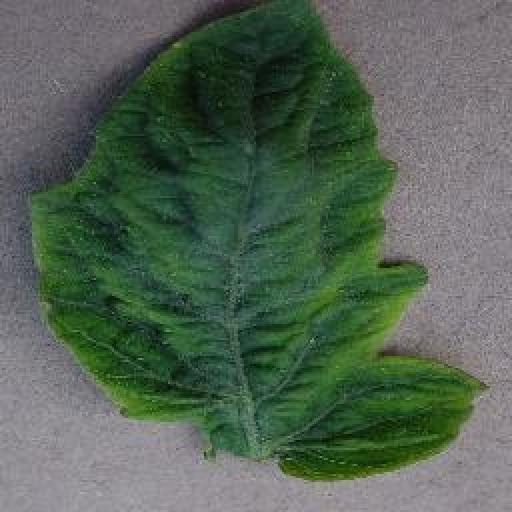disease_tomato: (30, 0, 492, 480)
